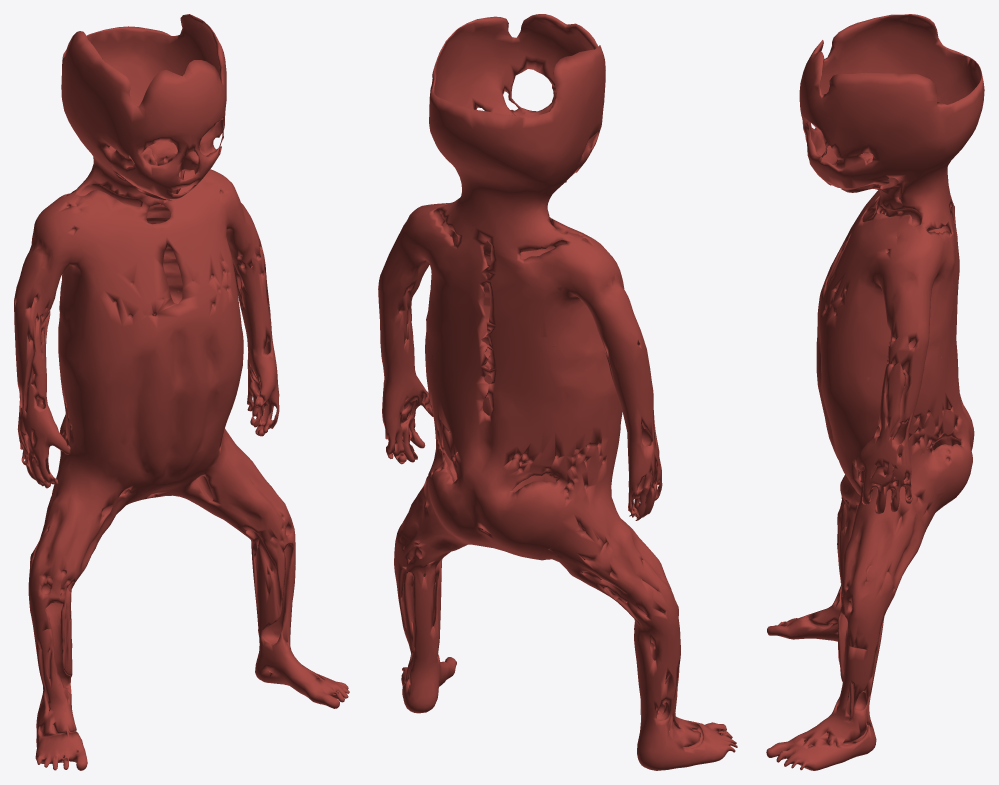
Rendered from pediatric_neonate_male.muscular.LOD1.glb.
3 renders of one model, left to right at view 1: azimuth 30°, elevation 25°; view 2: azimuth 150°, elevation 25°; view 3: azimuth 270°, elevation 25°, orthographic. The views are drawn at different scales.
Parts seen in each view (by area): view 1: PEDIATRIC.NEONATE.MALE.MUSCULAR.MUSCLE; view 2: PEDIATRIC.NEONATE.MALE.MUSCULAR.MUSCLE; view 3: PEDIATRIC.NEONATE.MALE.MUSCULAR.MUSCLE.
Part boxes in pixels (x1,y1,x2,y2): PEDIATRIC.NEONATE.MALE.MUSCULAR.MUSCLE: [14, 14, 349, 770]; PEDIATRIC.NEONATE.MALE.MUSCULAR.MUSCLE: [378, 14, 737, 770]; PEDIATRIC.NEONATE.MALE.MUSCULAR.MUSCLE: [766, 14, 984, 770].
Bounding box in the file's own units: 0.2246 × 0.4631 × 0.1382.
